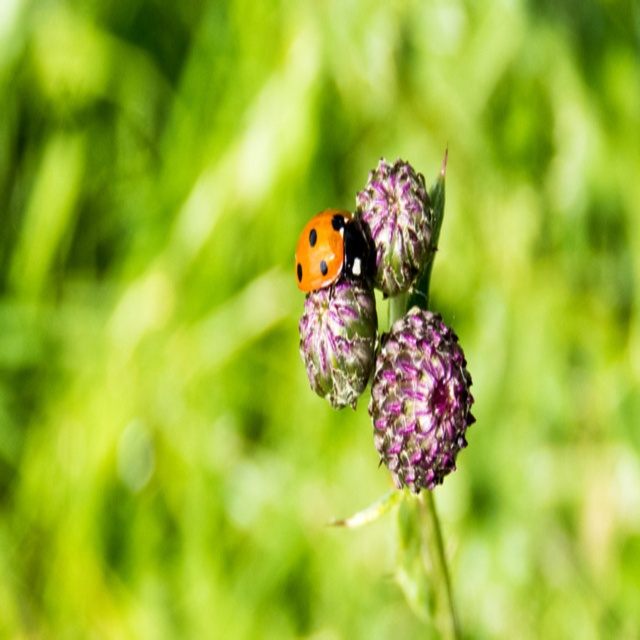Ladybug: (295, 212, 374, 302)
